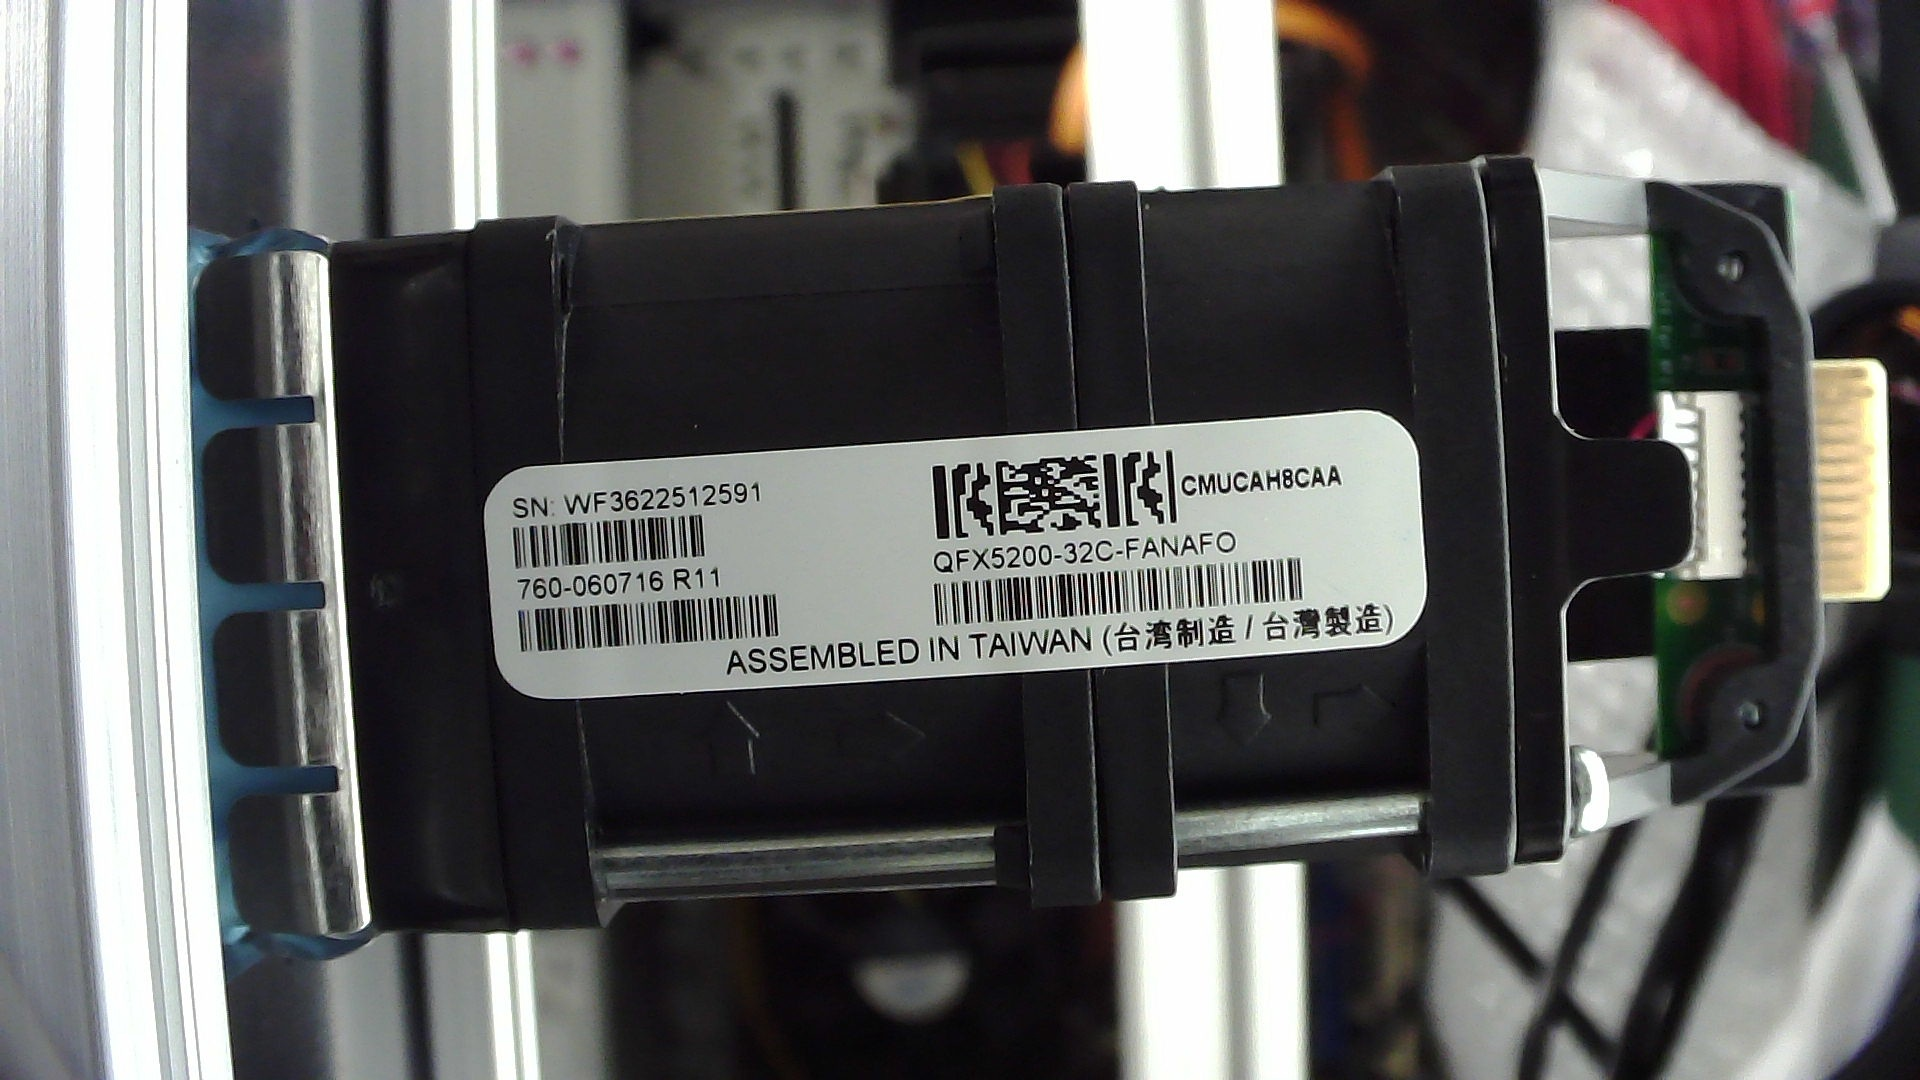6_2: (1684, 380, 1716, 576)
